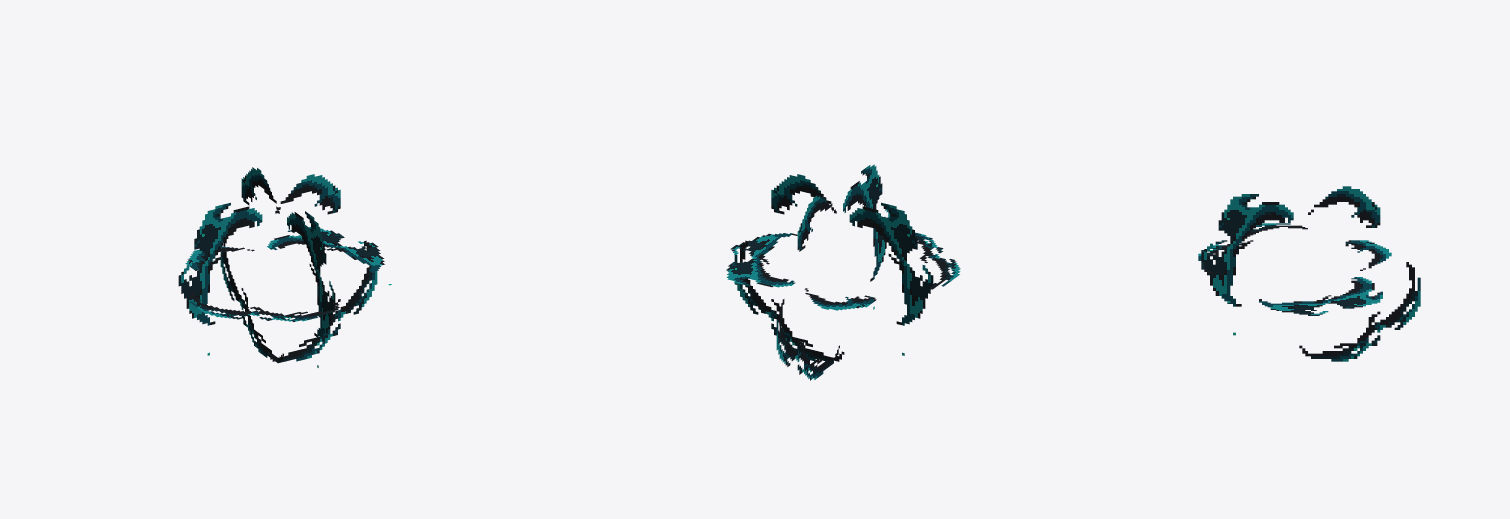
Rendered from vfx_gale_dash_10.gltf.
The picture shows the model from 3 angles, left to right: view 1: azimuth 30°, elevation 25°; view 2: azimuth 150°, elevation 25°; view 3: azimuth 270°, elevation 25°; orthographic projection. The views are drawn at different scales.
Visible parts, largest first — view 1: cube (×3); view 2: cube (×3); view 3: cube (×2).
Boxes of the visible parts, x1,y1,x2,y2 form: cube (×3): (178, 167, 391, 367); cube (×3): (726, 164, 960, 380); cube (×2): (1198, 186, 1420, 361).
Bounding box in the file's own units: 2.06 × 2.06 × 2.06.
Materials: 1 (1 with a texture image).
